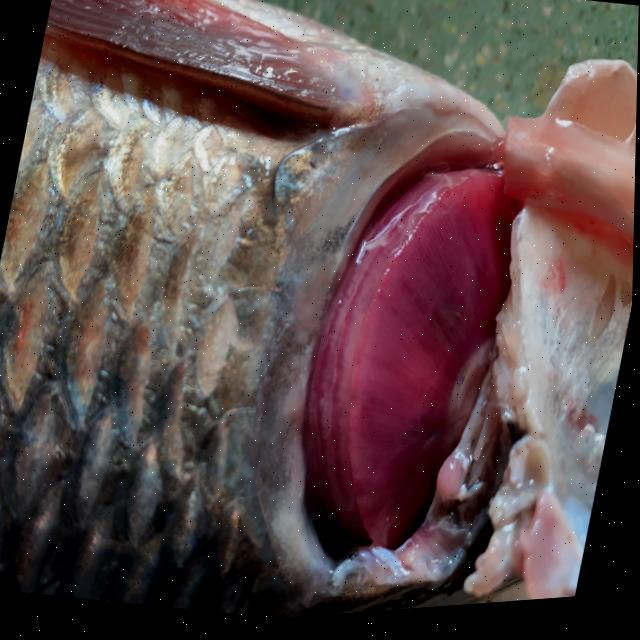Fresh: (247, 89, 590, 625)
